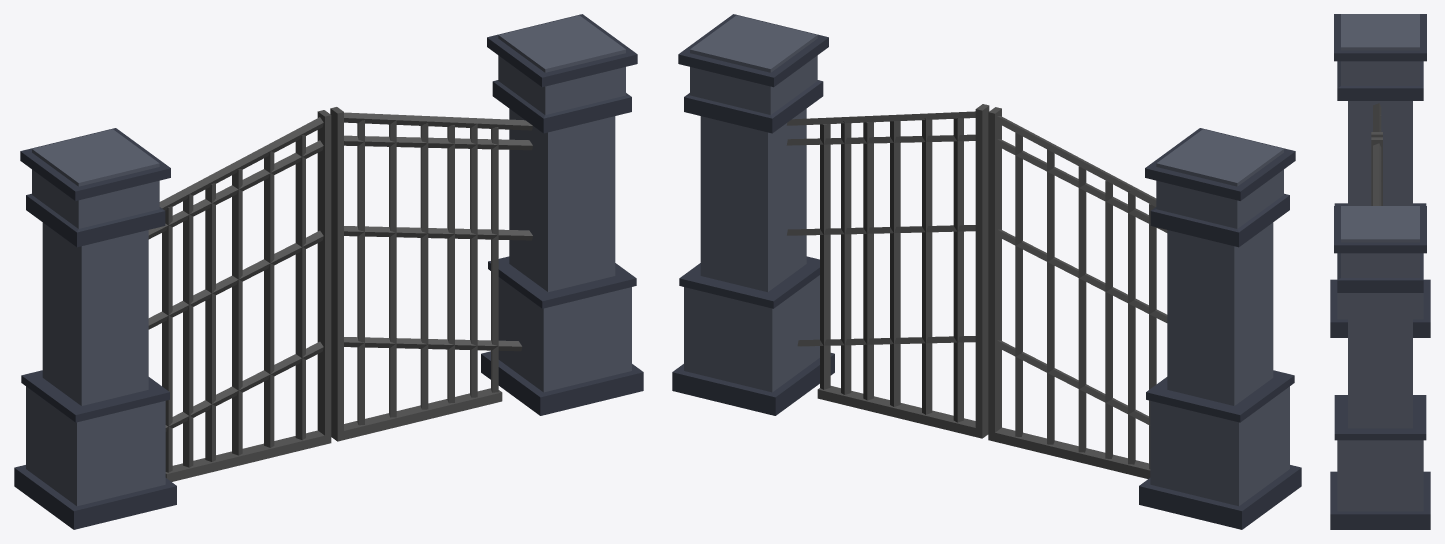
File: Mesh_Gate.fbx
3 views of the same model, side by side, from view 1: azimuth 30°, elevation 25°; view 2: azimuth 150°, elevation 25°; view 3: azimuth 270°, elevation 25° (orthographic). The views are drawn at different scales.
Visible parts, largest first — view 1: Gate_Pillars, Gate_L, Gate_R; view 2: Gate_Pillars, Gate_R, Gate_L; view 3: Gate_Pillars, Gate_R, Gate_L.
Part boxes in pixels (x1=…): Gate_Pillars: x1=14, y1=14, x2=643, y2=529; Gate_L: x1=162, y1=110, x2=331, y2=481; Gate_R: x1=330, y1=107, x2=502, y2=441; Gate_Pillars: x1=672, y1=14, x2=1301, y2=529; Gate_R: x1=817, y1=104, x2=989, y2=438; Gate_L: x1=988, y1=107, x2=1156, y2=478; Gate_Pillars: x1=1330, y1=14, x2=1430, y2=529; Gate_R: x1=1371, y1=137, x2=1382, y2=205; Gate_L: x1=1371, y1=108, x2=1382, y2=137.
Size of the model in its own units: 601 by 342 by 109.
